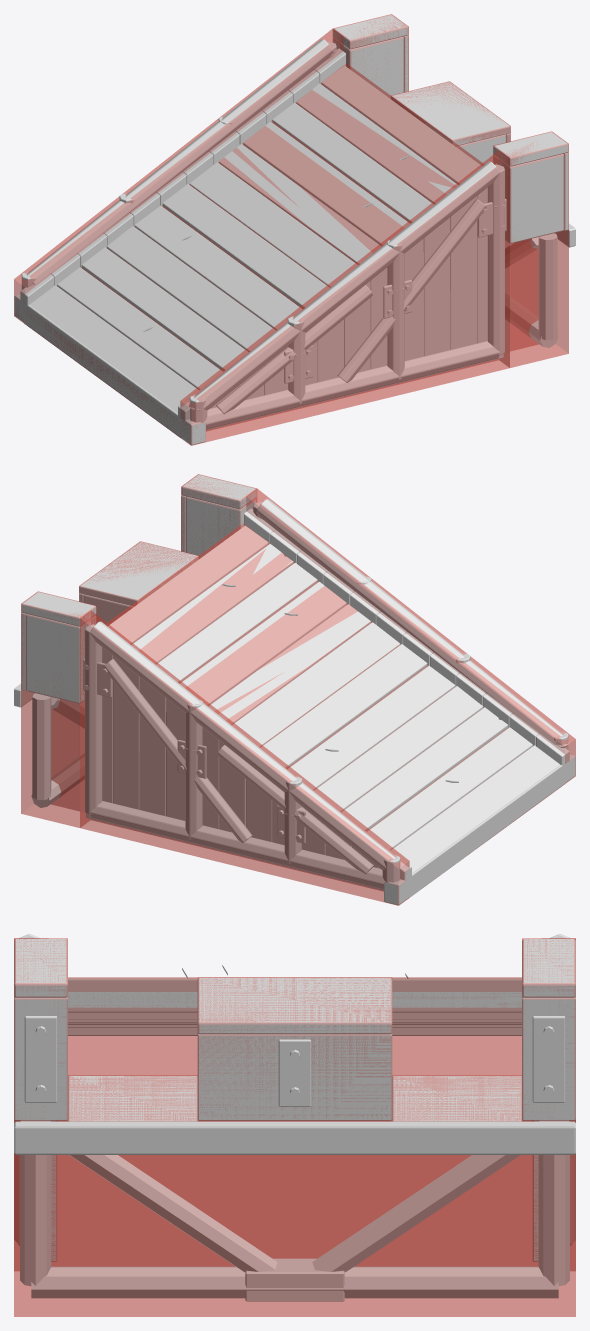
File: Bridge_Abutment_LowPoly.fbx
3 views of the same model, one above another, from view 1: azimuth 30°, elevation 25°; view 2: azimuth 150°, elevation 25°; view 3: azimuth 270°, elevation 25° (orthographic). The views are drawn at different scales.
Parts seen in each view (by area): view 1: Bridge_Abutment_LOD0, COL_SideWalls, COL_Ramp, COL_SocketSupports, COL_Connection; view 2: Bridge_Abutment_LOD0, COL_SideWalls, COL_Ramp, COL_SocketSupports, COL_Connection; view 3: Bridge_Abutment_LOD0, COL_SocketSupports, COL_Ramp, COL_Connection, COL_SideWalls.
Part boxes in pixels (x1=…): Bridge_Abutment_LOD0: x1=14, y1=15, x2=575, y2=445; COL_SideWalls: x1=14, y1=28, x2=509, y2=445; COL_Ramp: x1=27, y1=63, x2=498, y2=436; COL_SocketSupports: x1=333, y1=14, x2=568, y2=367; COL_Connection: x1=391, y1=81, x2=510, y2=146; Bridge_Abutment_LOD0: x1=14, y1=475, x2=575, y2=905; COL_SideWalls: x1=80, y1=488, x2=575, y2=905; COL_Ramp: x1=91, y1=523, x2=564, y2=891; COL_SocketSupports: x1=21, y1=474, x2=256, y2=827; COL_Connection: x1=79, y1=541, x2=198, y2=622; Bridge_Abutment_LOD0: x1=14, y1=934, x2=575, y2=1301; COL_SocketSupports: x1=14, y1=938, x2=575, y2=1316; COL_Ramp: x1=51, y1=977, x2=538, y2=1266; COL_Connection: x1=197, y1=977, x2=392, y2=1316; COL_SideWalls: x1=14, y1=938, x2=575, y2=1270.
Size of the model in its own units: 3.26 by 1.7 by 2.6.
